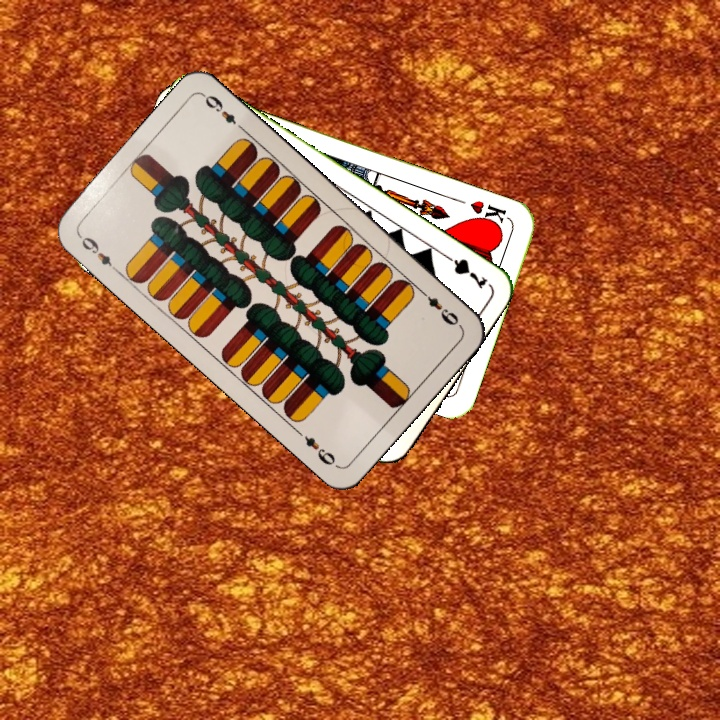E9: (415, 285, 463, 330), (75, 231, 122, 276)
G7: (438, 249, 490, 292)
HK: (466, 196, 512, 231)
